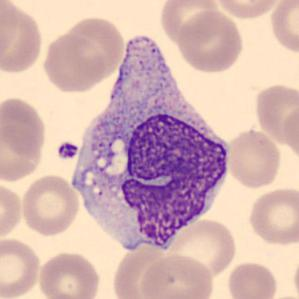Monocyte: (70, 23, 232, 257)
Platelets: (55, 140, 80, 161)
RBC: (174, 9, 246, 75), (166, 217, 240, 278), (61, 14, 126, 82), (40, 30, 107, 95), (19, 172, 81, 237), (138, 252, 215, 299), (224, 128, 283, 189), (0, 1, 46, 76), (36, 249, 102, 299), (246, 186, 298, 247), (0, 95, 49, 158), (0, 120, 47, 183), (252, 81, 298, 145), (158, 0, 221, 44), (0, 235, 43, 299), (225, 259, 279, 299), (268, 0, 298, 56), (213, 0, 285, 21), (0, 180, 24, 241), (0, 0, 20, 69), (281, 102, 299, 165), (292, 251, 299, 299)
